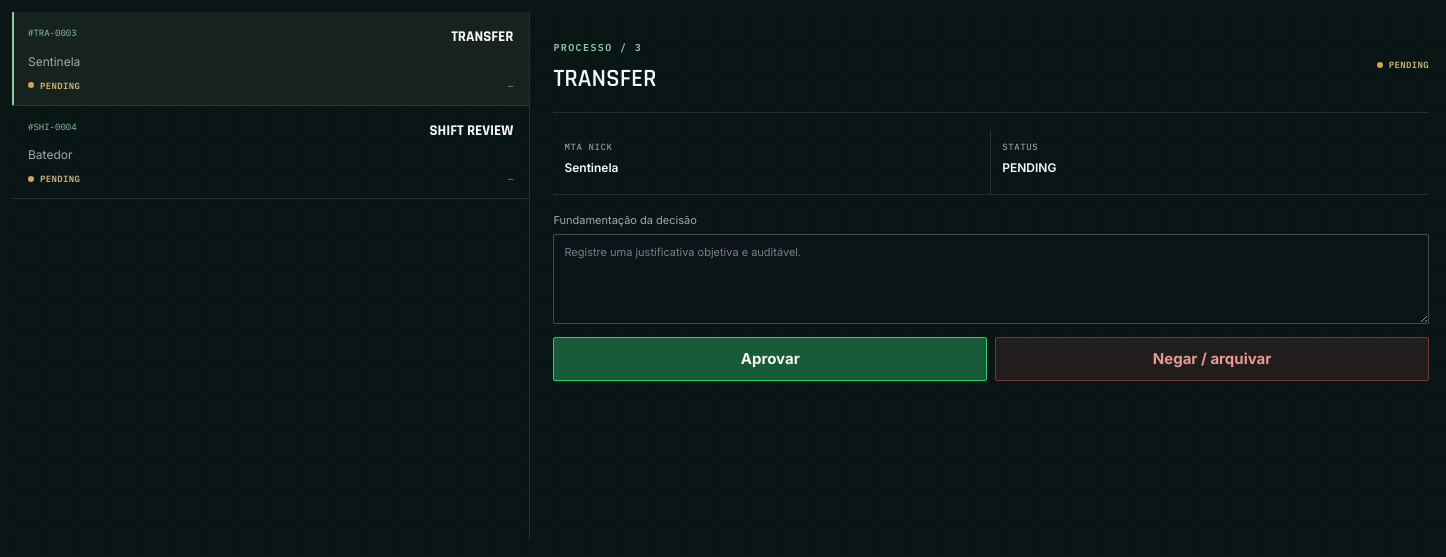
Test: administrative inbox workspace › exposes pending processes as a semantic list of selection buttons
Click the button "#SHI-0004 SHIFT REVIEW Batedor PENDING —" at point(471, 130), box [12,106,529,199]
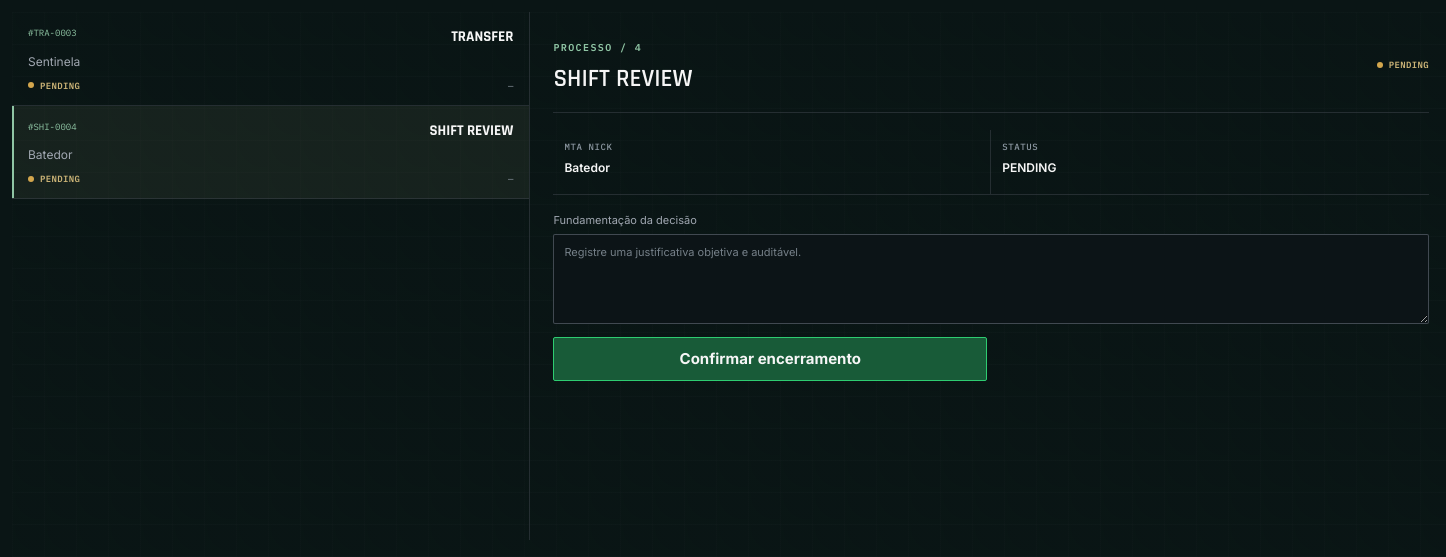
Now the heading "SHIFT REVIEW" is shown, box [553,62,693,94]
